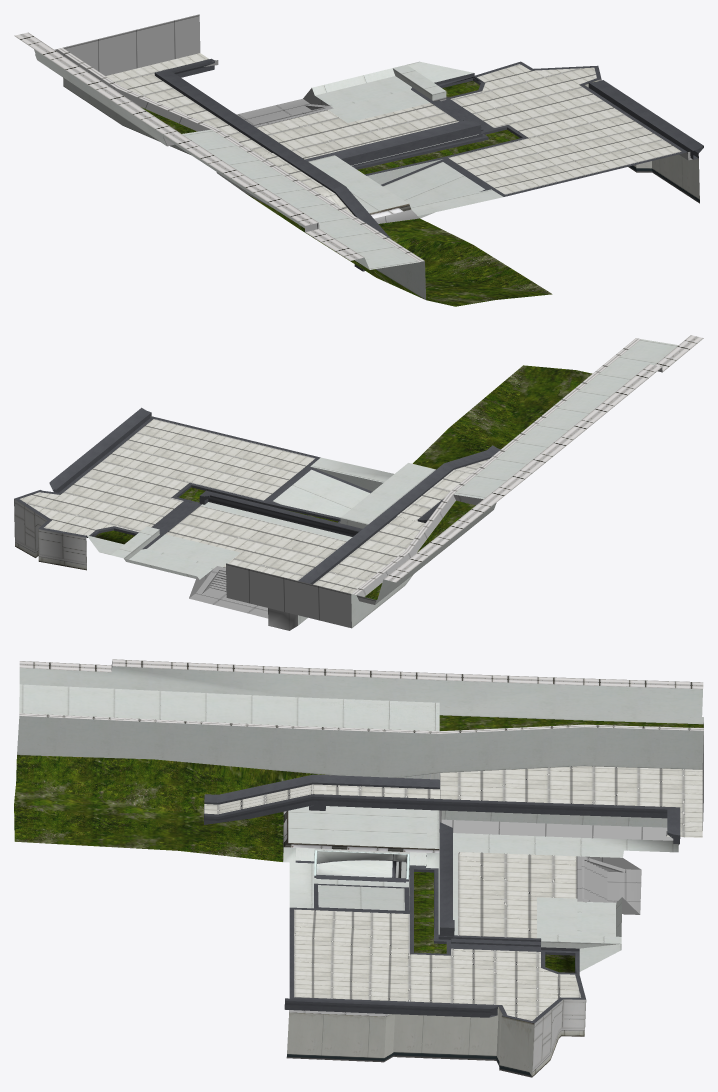
The model's file is STA20_24.FBX.
The picture shows the model from 3 angles, top to bottom: view 1: azimuth 30°, elevation 25°; view 2: azimuth 150°, elevation 25°; view 3: azimuth 270°, elevation 25°; orthographic projection. The views are drawn at different scales.
Visible parts, largest first — view 1: STA20_24; view 2: STA20_24; view 3: STA20_24.
Part boxes in pixels (x1,y1,x2,y2): STA20_24: [14, 14, 703, 306]; STA20_24: [14, 335, 703, 630]; STA20_24: [14, 659, 703, 1077].
Bounding box in the file's own units: 67.39 × 21.49 × 79.08.
